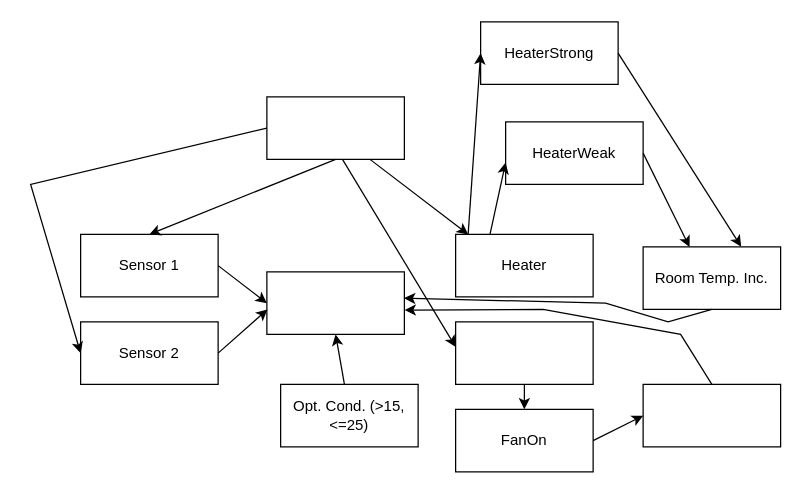
This 803x494 diagram has some shape labels left out. The centre of each missing label's shape, as x and y in pixels:
"Fan" goes at (523,352).
"Room M370" goes at (335,127).
"Room Temp. Dec." goes at (711,415).
"RoomTemperature" goes at (335,302).
